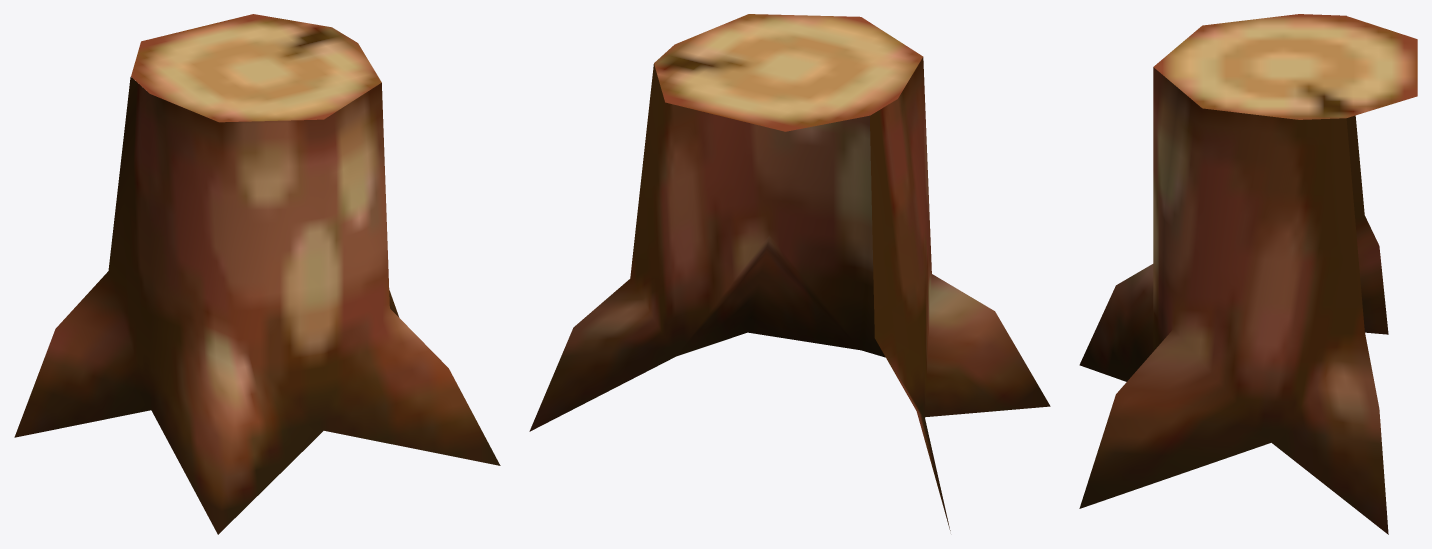
File: fg_treeB_2_b.dae
3 renders of one model, left to right at view 1: azimuth 30°, elevation 25°; view 2: azimuth 150°, elevation 25°; view 3: azimuth 270°, elevation 25°, orthographic. The views are drawn at different scales.
Visible parts, largest first — view 1: fg_treeB_2_b; view 2: fg_treeB_2_b; view 3: fg_treeB_2_b.
Part boxes in pixels (bbox=[...]): fg_treeB_2_b: bbox=[14, 14, 500, 534]; fg_treeB_2_b: bbox=[529, 14, 1050, 530]; fg_treeB_2_b: bbox=[1079, 14, 1417, 534].
Bounding box in the file's own units: 17.01 × 14.66 × 12.14.
Materials: 1 (1 with a texture image).
